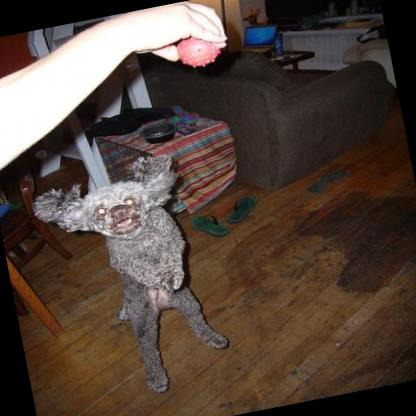miniature_poodle: (21, 145, 235, 410)
